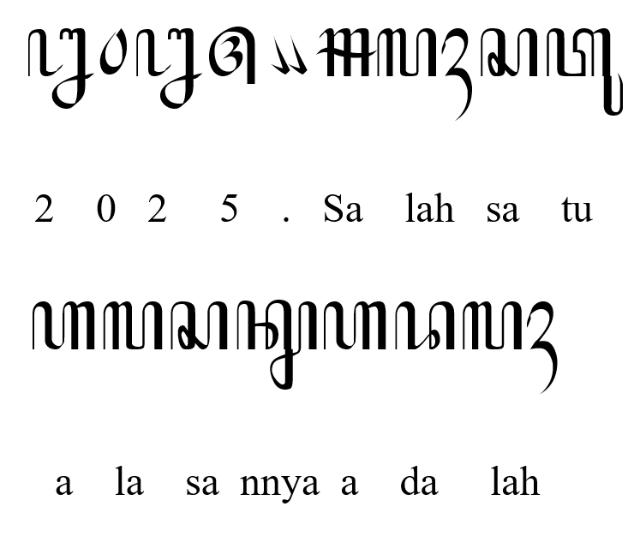0: (98, 27, 128, 75)
5: (208, 25, 256, 87)
S: (314, 27, 378, 77)
_h1: (441, 27, 473, 123), (526, 300, 558, 396)
d: (394, 301, 456, 351)
h: (322, 300, 388, 352), (31, 301, 97, 352)
kom: (288, 34, 308, 76), (270, 34, 290, 74)
l: (461, 301, 524, 352), (375, 27, 437, 77), (102, 300, 164, 350)
ngna: (134, 26, 202, 110), (27, 27, 95, 110)
nny: (236, 300, 318, 390)
s: (479, 26, 539, 78), (170, 301, 228, 352)
tu: (546, 26, 624, 116)
